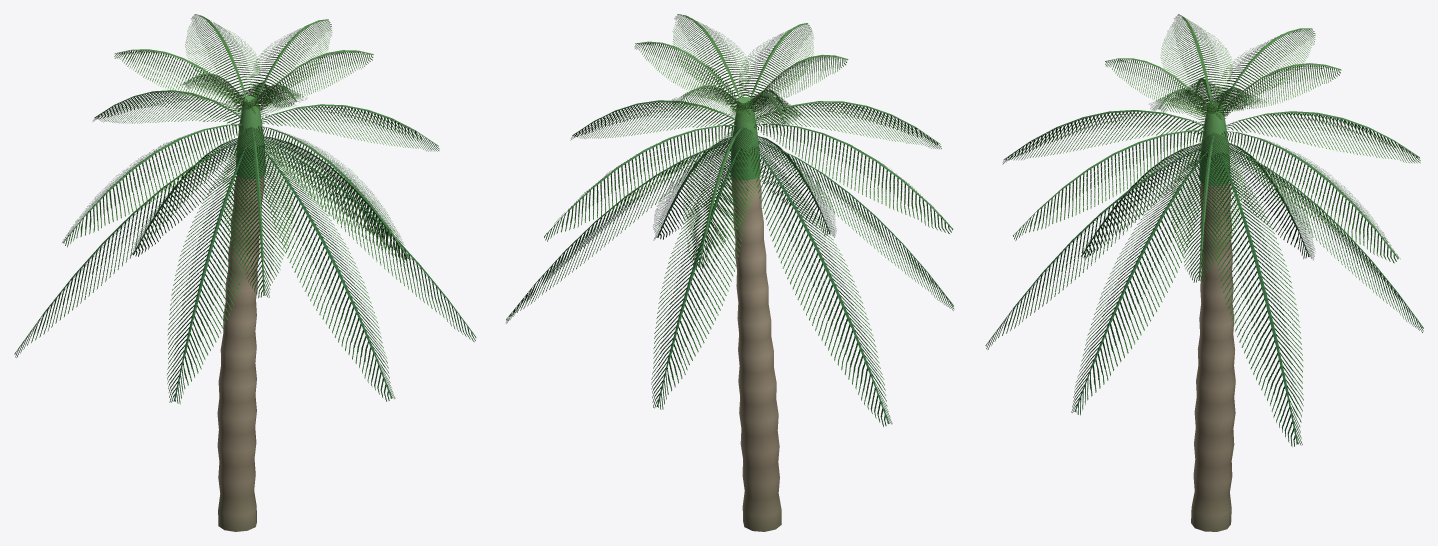
The model's file is palm_9.gltf.
The picture shows the model from 3 angles, left to right: view 1: azimuth 30°, elevation 25°; view 2: azimuth 150°, elevation 25°; view 3: azimuth 270°, elevation 25°; orthographic projection.
Visible parts, largest first — view 1: PalmFronds, PalmTrunk; view 2: PalmFronds, PalmTrunk; view 3: PalmFronds, PalmTrunk.
Part boxes in pixels (<box>): PalmFronds: <box>14,14,476,404</box>; PalmTrunk: <box>217,96,265,531</box>; PalmFronds: <box>506,14,954,426</box>; PalmTrunk: <box>730,97,781,531</box>; PalmFronds: <box>985,14,1423,446</box>; PalmTrunk: <box>1191,102,1235,531</box>.
Size of what is drawn, in the model's own units: 7.93 by 8.99 by 7.46.
Materials: 2 (1 with a texture image).
